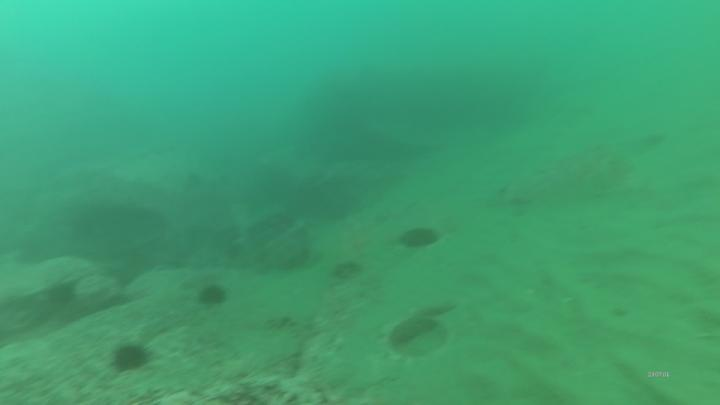echinus: (111, 342, 151, 374), (194, 282, 230, 310)
